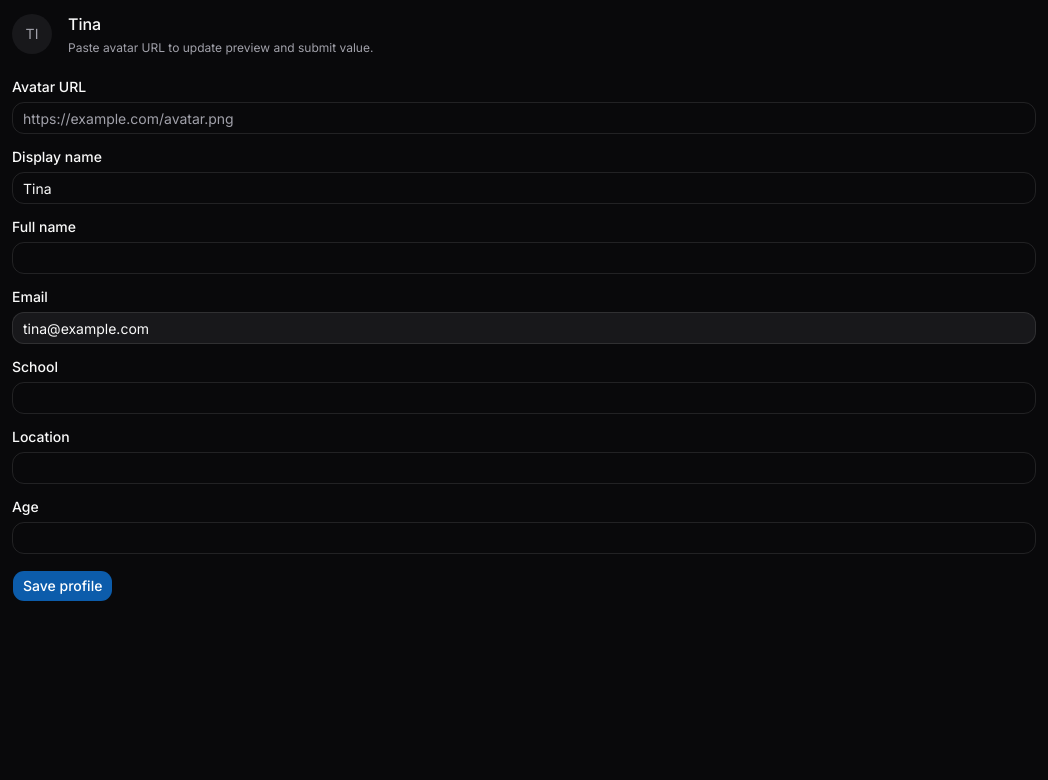
ProfileForm › optimistically updates preview name and shows inline success
Replace the text in the field labelled "Display name" with "Tina Updated" at {"x": 524, "y": 188}, box top-left (12, 172), bottom-right (1036, 204)
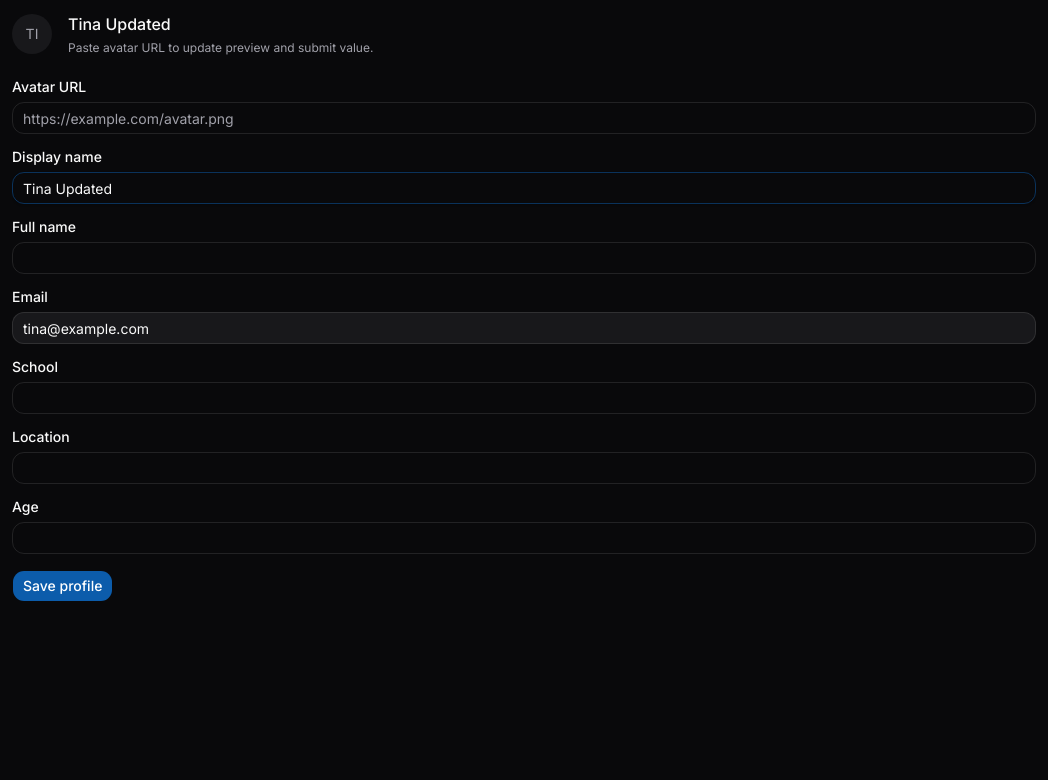
Click the button "Save profile" at {"x": 63, "y": 586}, box top-left (12, 570), bottom-right (113, 602)
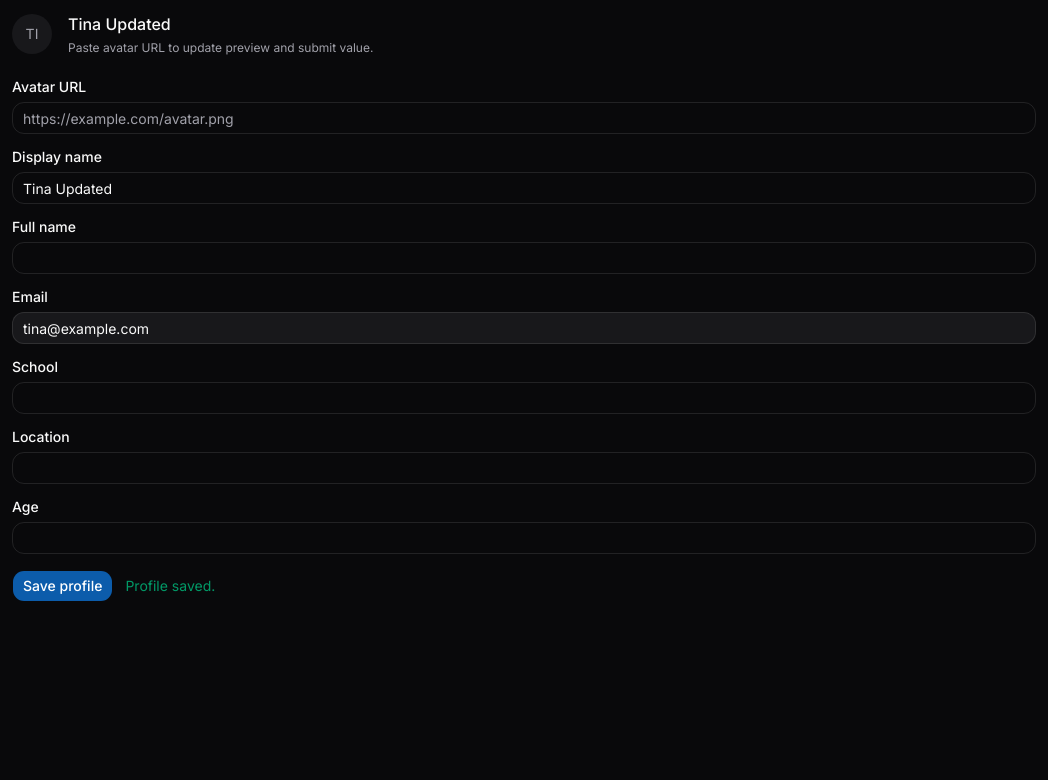
Check: the text with test id "profile-preview-name" reads "Tina Updated", box top-left (68, 14), bottom-right (171, 34)
Check: the text "Profile saved." is shown, box top-left (125, 576), bottom-right (215, 596)
